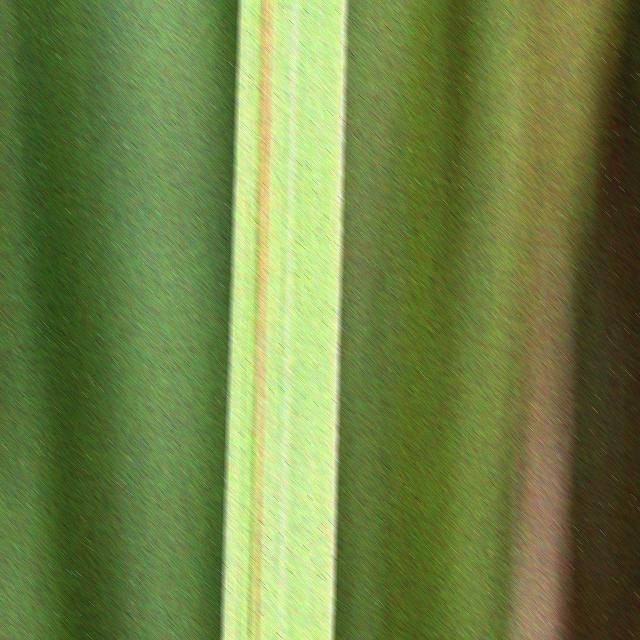BLS: (248, 0, 273, 640)
